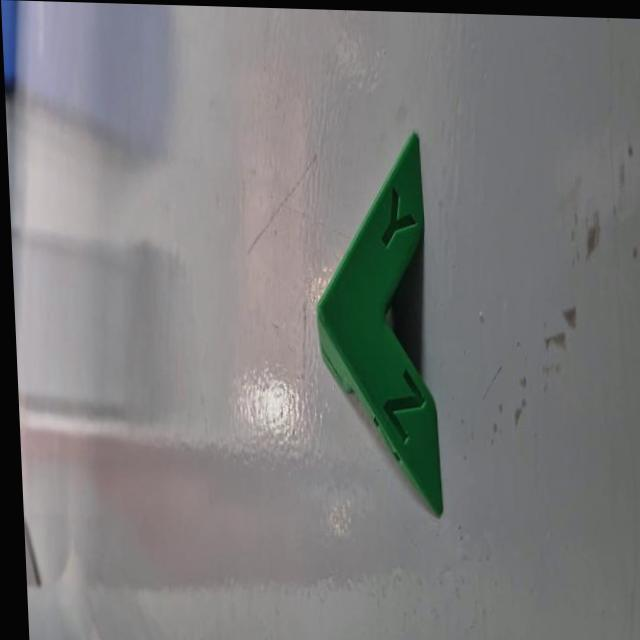eje: (300, 125, 447, 525)
